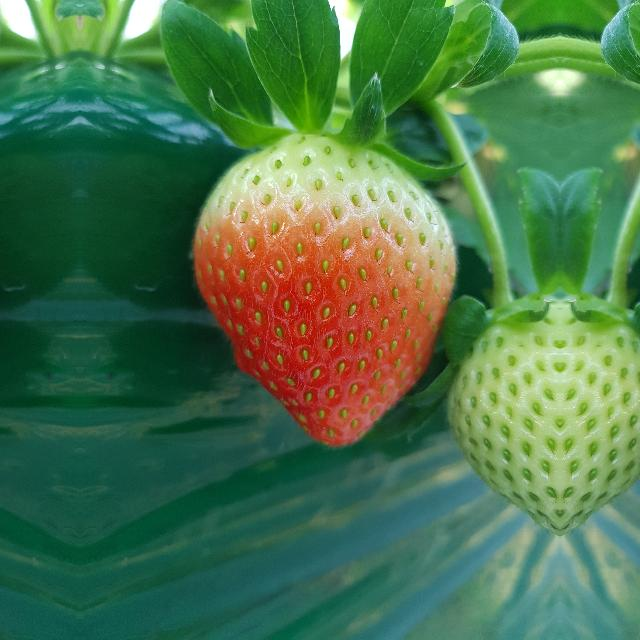Health_25: (439, 301, 559, 541), (561, 301, 640, 541)
Health_75: (190, 132, 458, 448)
